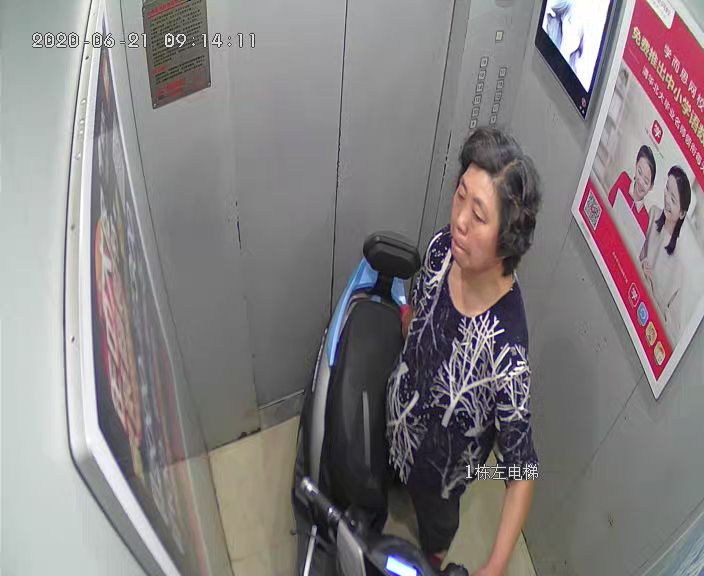Electric-bicycle: (297, 233, 466, 576)
